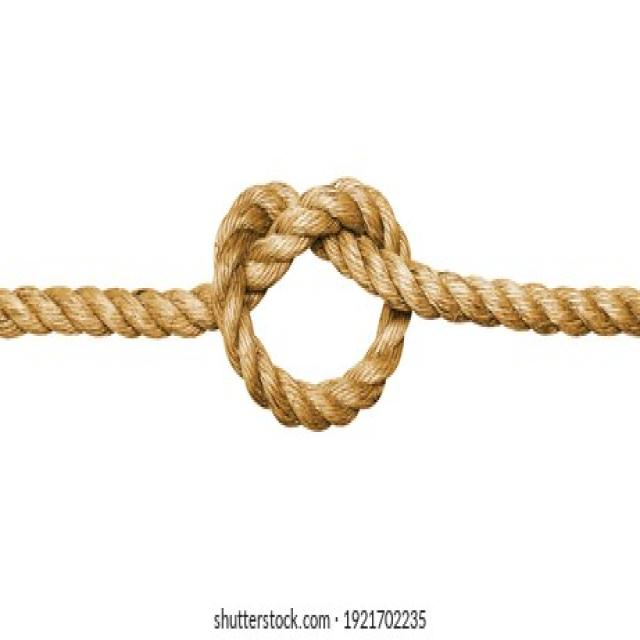Rope: (1, 160, 640, 443)
